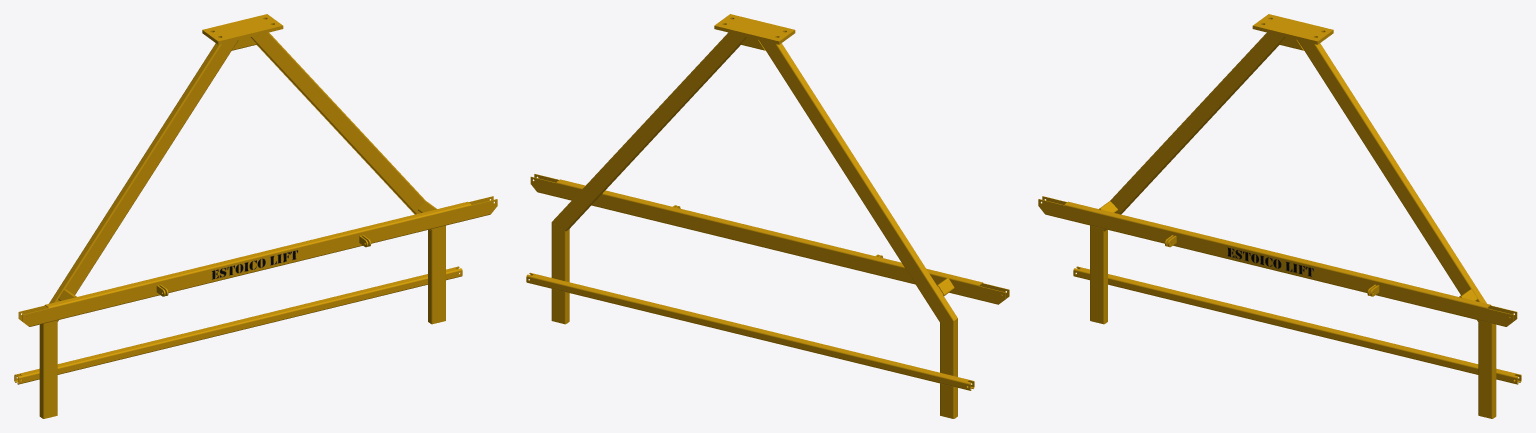
File: PGS-SFC-T01.glb
3 renders of one model, left to right at view 1: azimuth 30°, elevation 25°; view 2: azimuth 150°, elevation 25°; view 3: azimuth 330°, elevation 25°, orthographic.
Parts seen in each view (by area): view 1: PTR DE 2X4 2078MM (×2), PTR 2X4 3250MM, PTR 2X2 DE 3038MM, PTR DE 2X4 643MM (×2), PLACASUPERIOR; view 2: PTR DE 2X4 2078MM (×2), PTR 2X4 3250MM, PTR 2X2 DE 3038MM, PTR DE 2X4 643MM (×2), PLACASUPERIOR; view 3: PTR DE 2X4 2078MM (×2), PTR 2X4 3250MM, PTR 2X2 DE 3038MM, PTR DE 2X4 643MM (×2), PLACASUPERIOR.
Part boxes in pixels (box(x1,y1,x2,y2)): PTR DE 2X4 2078MM (×2): box(49, 32, 437, 322); PTR 2X4 3250MM: box(18, 196, 497, 326); PTR 2X2 DE 3038MM: box(14, 266, 462, 384); PTR DE 2X4 643MM (×2): box(39, 225, 445, 418); PLACASUPERIOR: box(202, 14, 283, 44); PTR DE 2X4 2078MM (×2): box(551, 32, 957, 322); PTR 2X4 3250MM: box(530, 174, 1009, 304); PTR 2X2 DE 3038MM: box(526, 272, 974, 390); PTR DE 2X4 643MM (×2): box(551, 223, 957, 418); PLACASUPERIOR: box(714, 14, 795, 44); PTR DE 2X4 2078MM (×2): box(1098, 32, 1486, 322); PTR 2X4 3250MM: box(1038, 196, 1517, 326); PTR 2X2 DE 3038MM: box(1073, 266, 1521, 384); PTR DE 2X4 643MM (×2): box(1090, 225, 1496, 418); PLACASUPERIOR: box(1252, 14, 1333, 44).
Size of the model in its own units: 3.25 by 2.23 by 0.3907.
8 materials, 4 textured.
